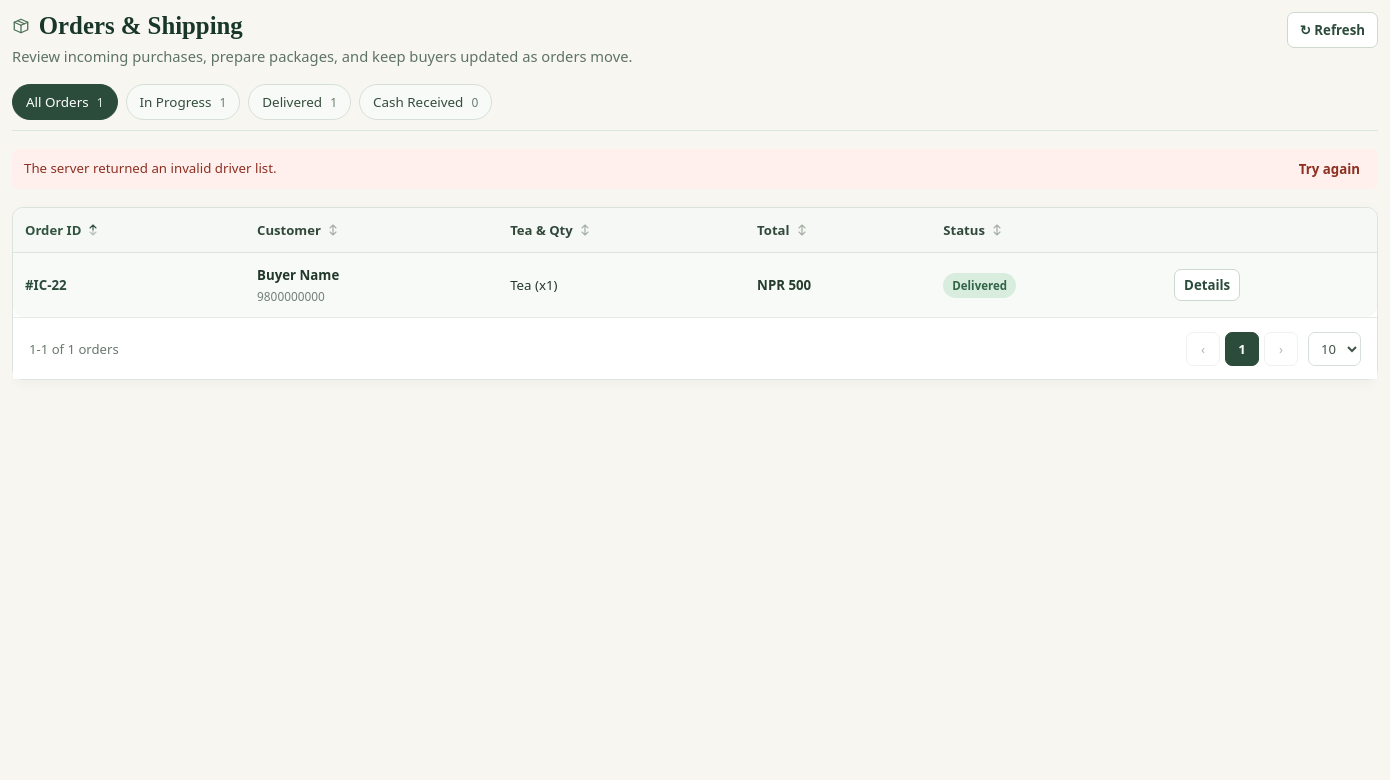
Test: offers Cash Received after Delivered in shipment details
Later steps or results of the test are not shown.
Click the button with aria-label "View tracking for order 22" at (1207, 285), box [1174,269,1240,301]
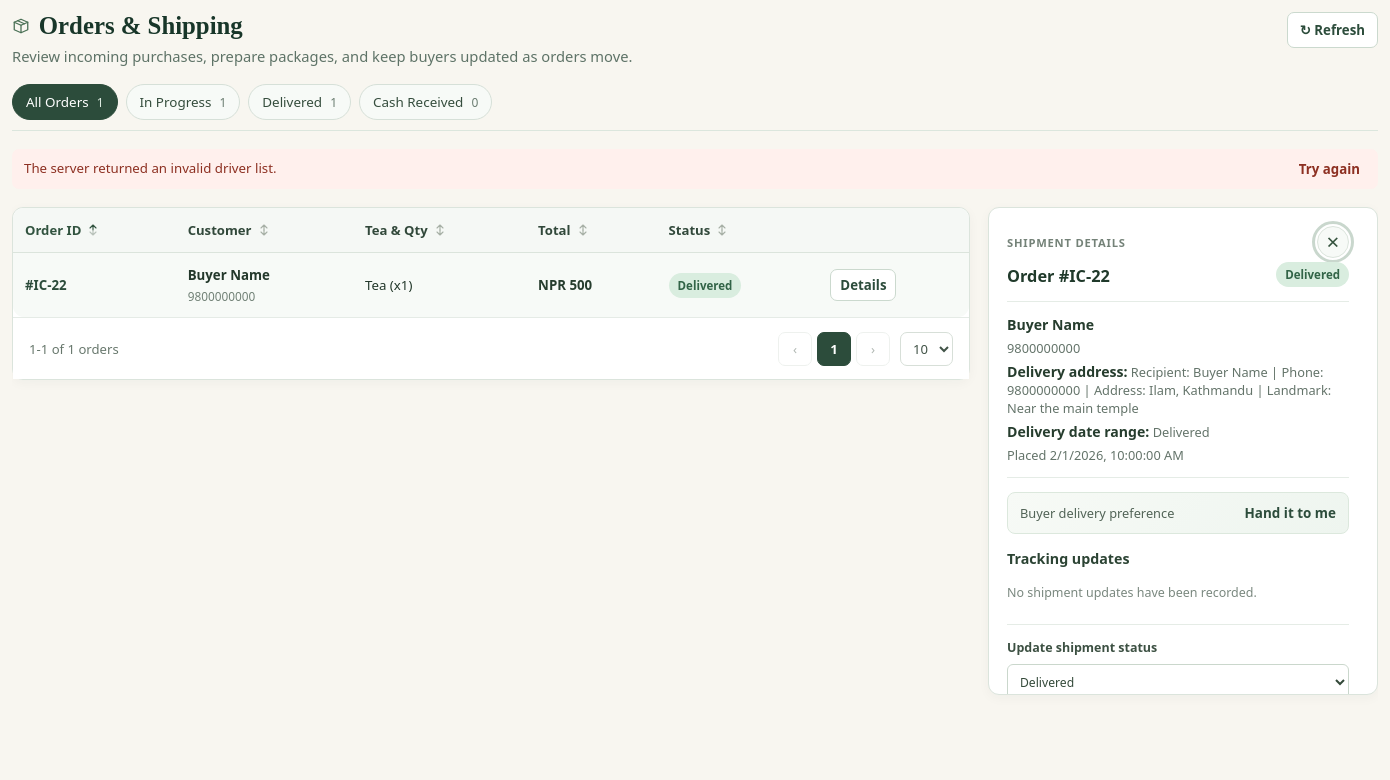
Check: the dropdown labelled "Update shipment status" is enabled, box [1007,664,1349,695]
Check: the text "Buyer delivery preference" is shown, box [1020,504,1174,522]
Check: the text "Hand it to me" is shown, box [1245,504,1336,522]
